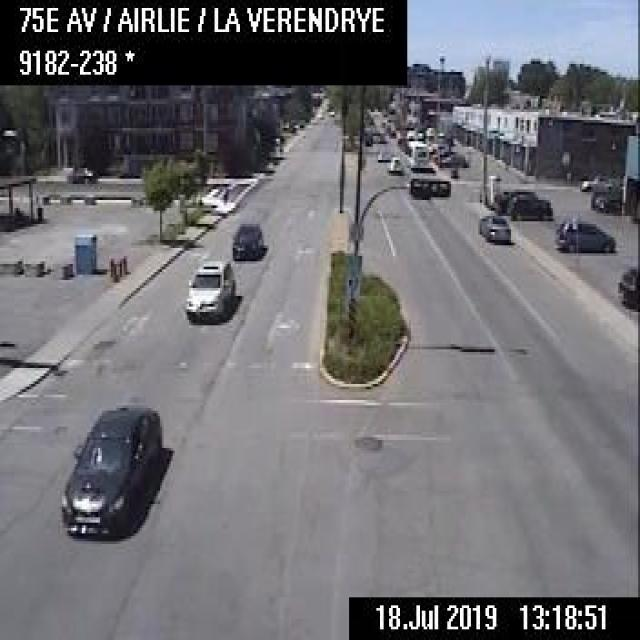bus: (403, 136, 429, 169)
construction: (120, 253, 126, 274), (111, 259, 117, 280), (107, 255, 112, 276), (116, 257, 121, 275)
vehicle: (58, 400, 166, 539), (183, 255, 234, 323), (552, 213, 616, 253), (507, 191, 554, 221), (231, 218, 263, 262), (474, 208, 511, 243), (615, 264, 637, 311), (580, 171, 611, 192), (67, 165, 96, 184), (438, 148, 468, 166), (387, 152, 402, 172), (376, 146, 390, 160)
